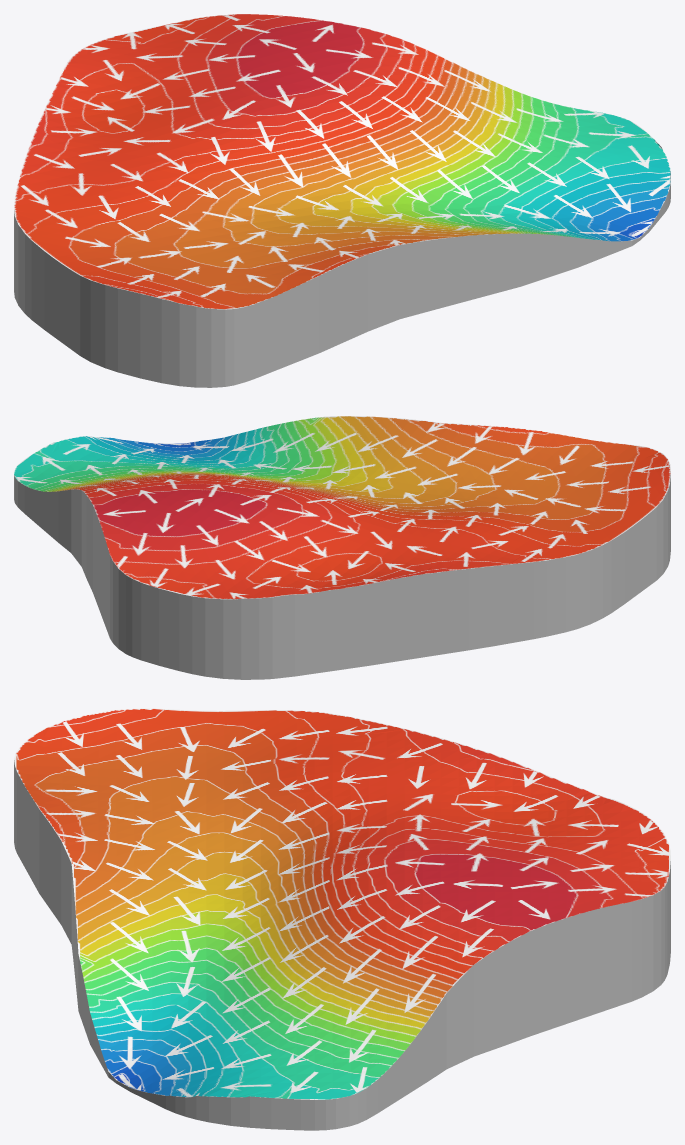
3 views of the same model, one above another, from view 1: azimuth 30°, elevation 25°; view 2: azimuth 150°, elevation 25°; view 3: azimuth 270°, elevation 25° (orthographic). The views are drawn at different scales.
Bounding box in the file's own units: 6.82 × 1.03 × 5.67.
2 materials, 1 textured.
